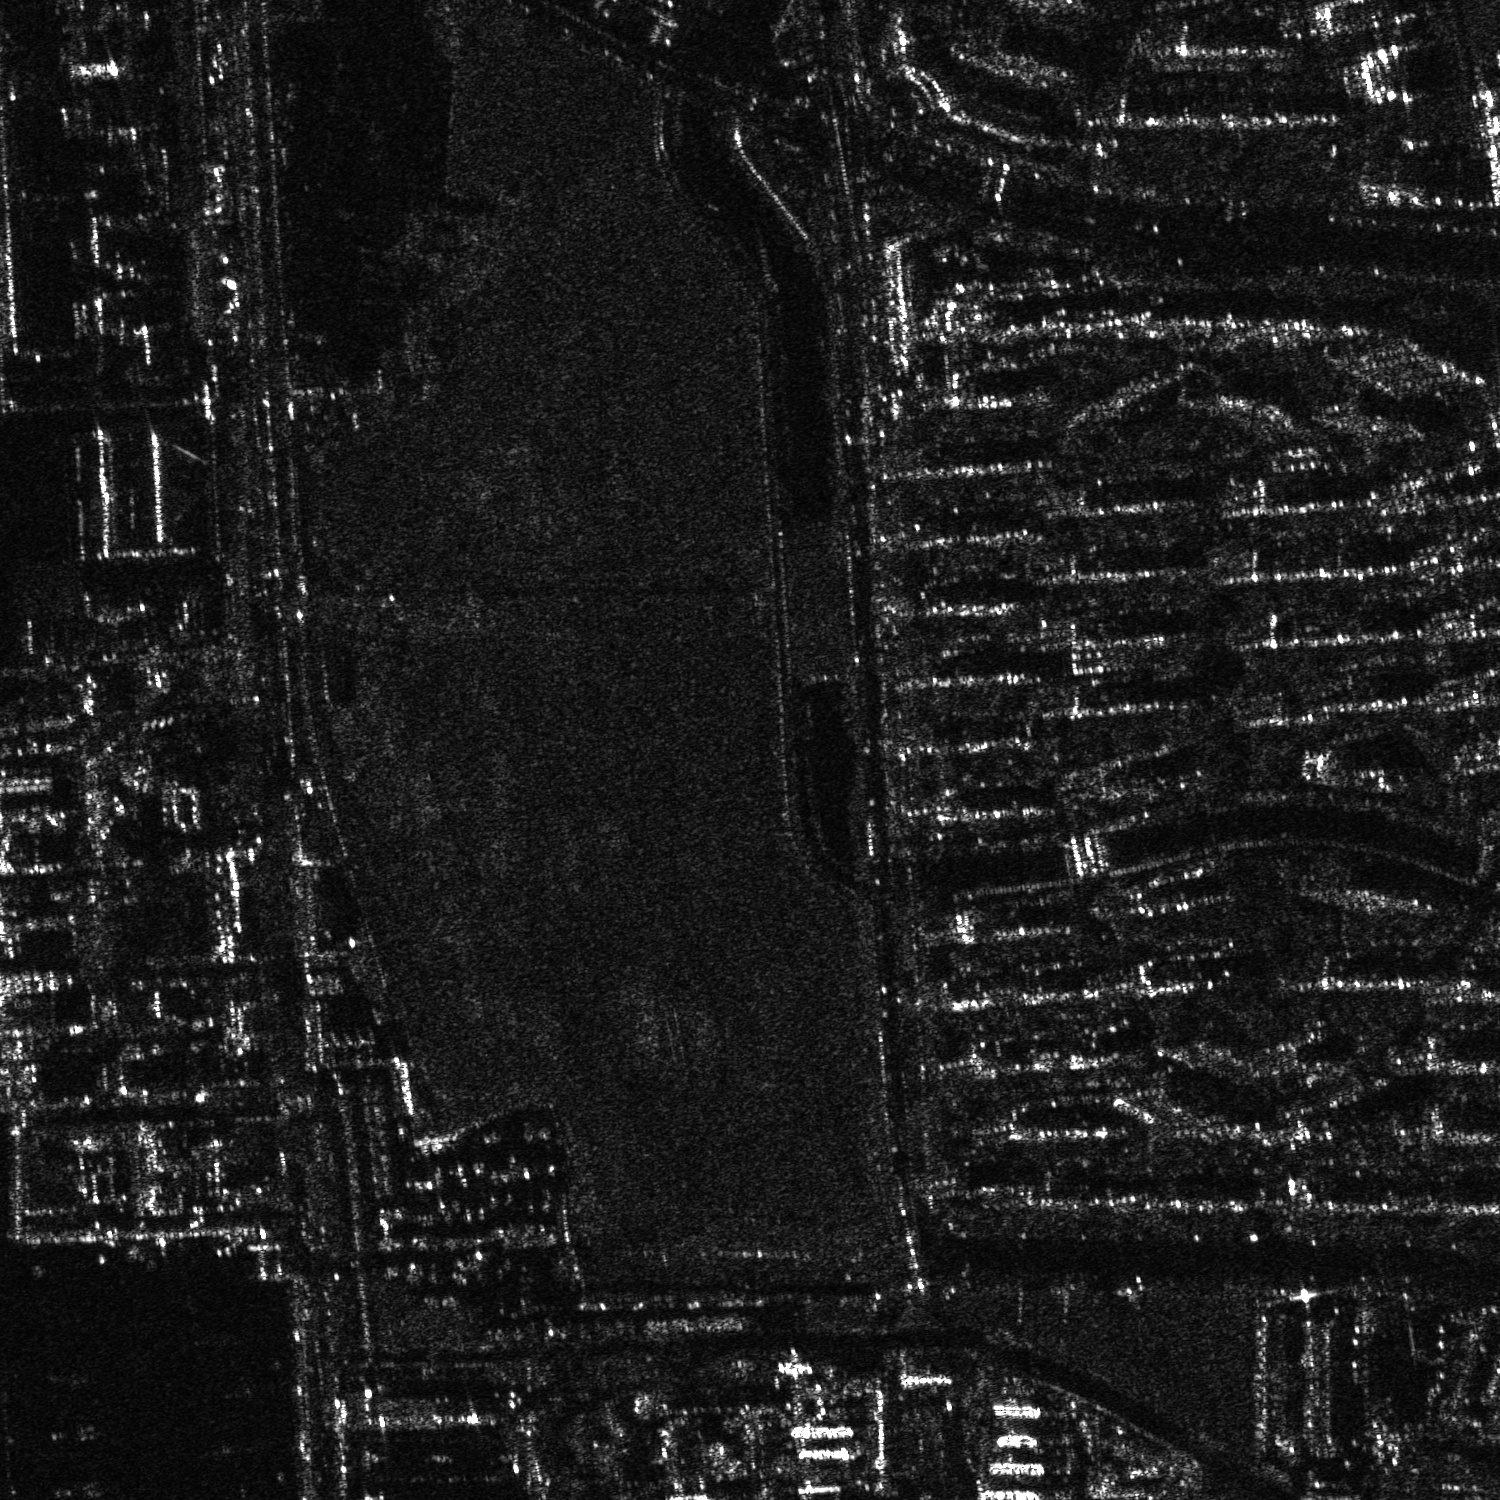ARJ21: (45, 1412, 109, 1455), (48, 1468, 117, 1499)
other: (36, 1360, 92, 1394)
